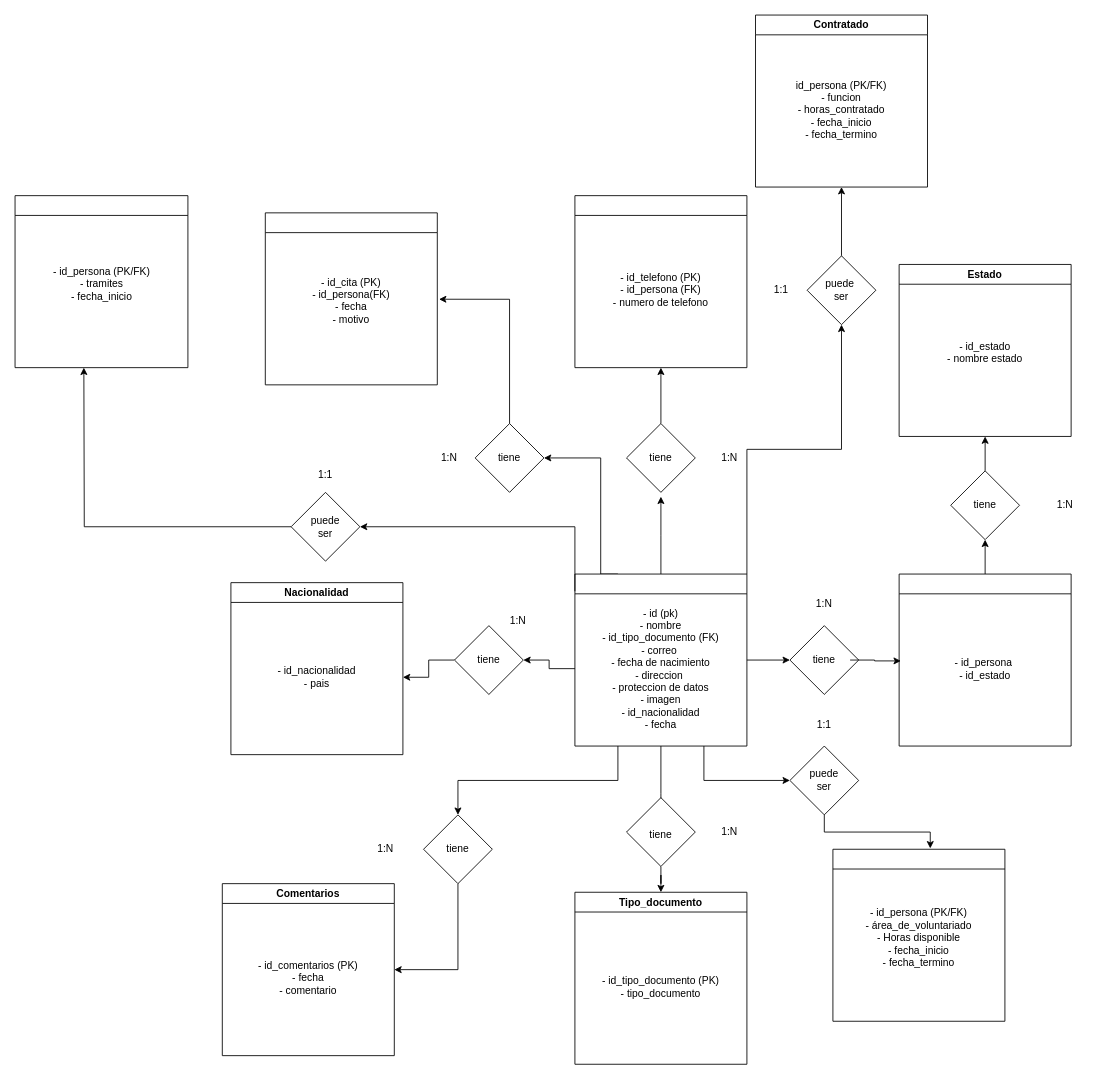
Image size: 1106x1079. Some labels were removed from this diagram. The box of each missing label's shape, as (x1, y1, x2, y2) in pixels:
Asociado: (14, 195, 188, 368)
Cita_atencion: (264, 212, 437, 385)
persona: (574, 573, 747, 746)
Persona_estado: (898, 573, 1071, 746)
Telé fono_persona: (574, 195, 747, 368)
Voluntario: (832, 848, 1005, 1021)
